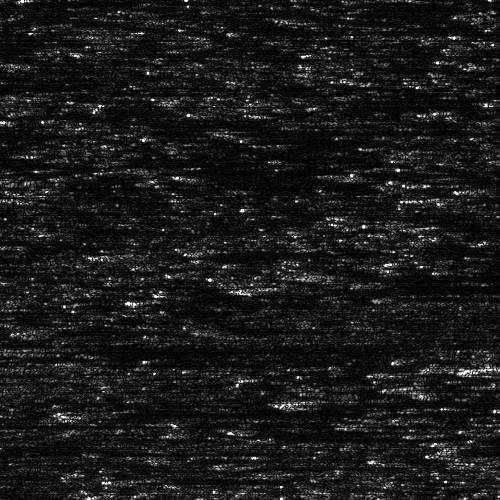rock: (174, 278, 341, 297), (0, 342, 124, 357), (228, 394, 363, 407), (103, 249, 218, 258), (373, 223, 478, 232), (423, 364, 500, 375), (211, 426, 294, 435), (307, 271, 360, 280), (432, 195, 495, 200), (205, 129, 246, 134), (127, 472, 138, 487), (134, 298, 165, 301), (84, 411, 105, 414)
shadow: (258, 278, 500, 297), (20, 342, 305, 357), (296, 394, 500, 407), (161, 249, 374, 258), (334, 271, 500, 280), (253, 426, 418, 435), (133, 472, 219, 487), (95, 411, 489, 414), (426, 223, 499, 232), (0, 421, 85, 428), (150, 298, 290, 301), (226, 129, 300, 134), (399, 386, 500, 389), (464, 195, 500, 200)
